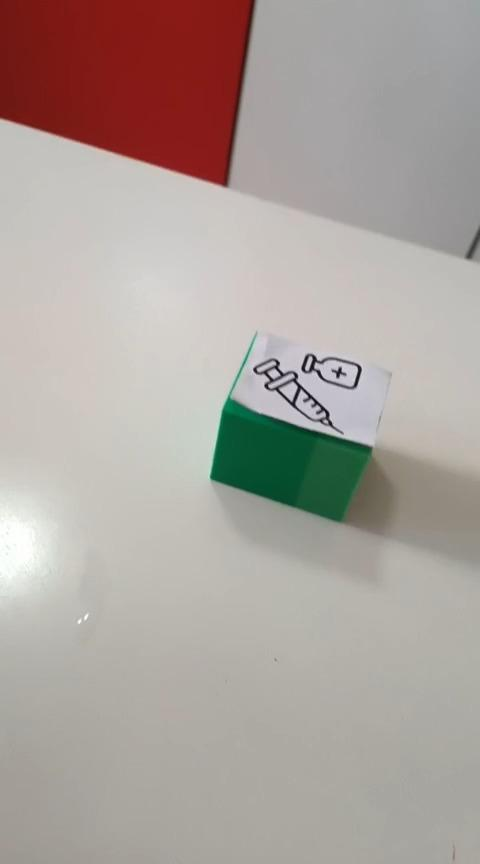antiseptic cream: (208, 328, 392, 522)
